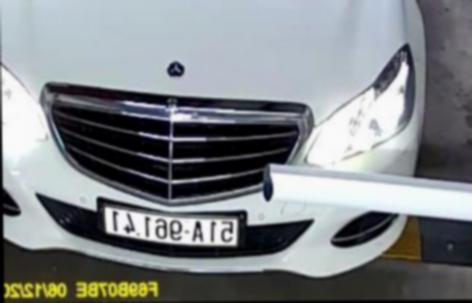License_Plate: (98, 201, 246, 258)
